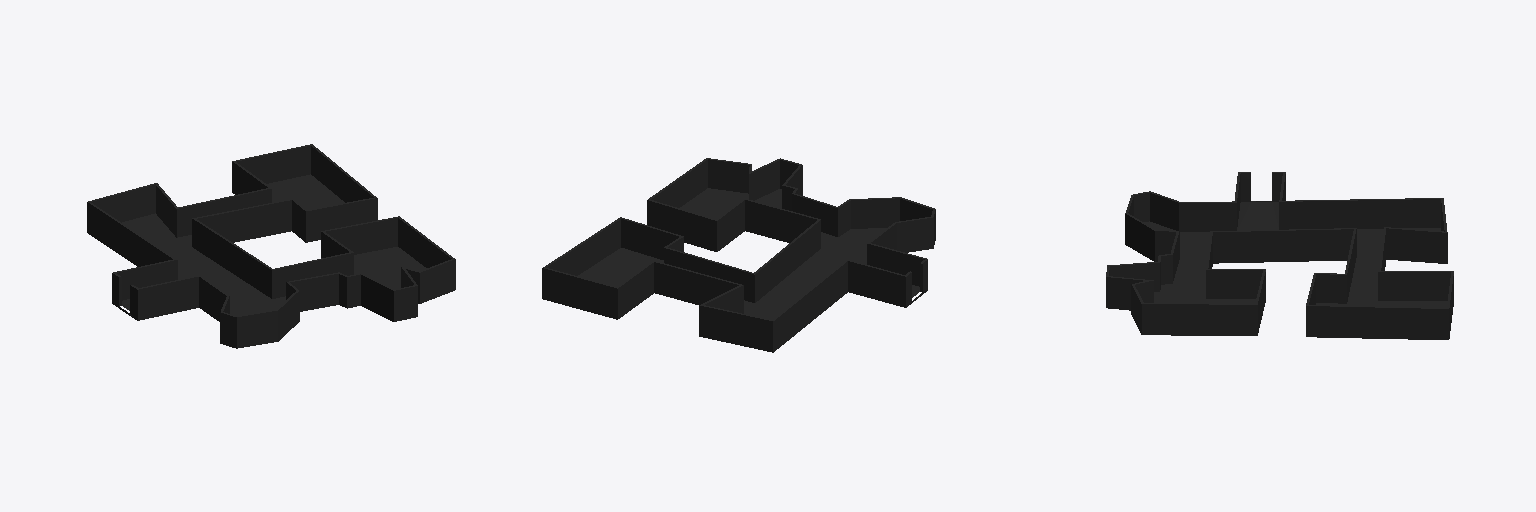
Rendered from Room1.obj.
3 views of the same model, side by side, from view 1: azimuth 30°, elevation 25°; view 2: azimuth 150°, elevation 25°; view 3: azimuth 270°, elevation 25° (orthographic).
Visible parts, largest first — view 1: Room1; view 2: Room1; view 3: Room1.
Part boxes in pixels (bbox=[...]): Room1: bbox=[87, 144, 455, 348]; Room1: bbox=[542, 158, 935, 352]; Room1: bbox=[1106, 172, 1453, 339].
Bounding box in the file's own units: 37.71 × 4 × 40.34.